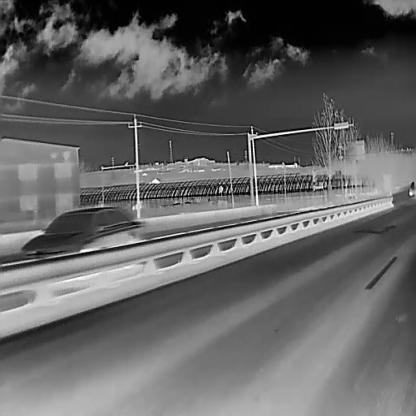car: (18, 206, 145, 263), (408, 180, 414, 196)
